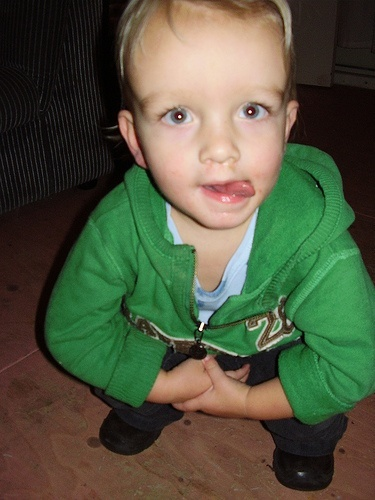head: (119, 1, 298, 234)
person: (38, 1, 375, 472)
